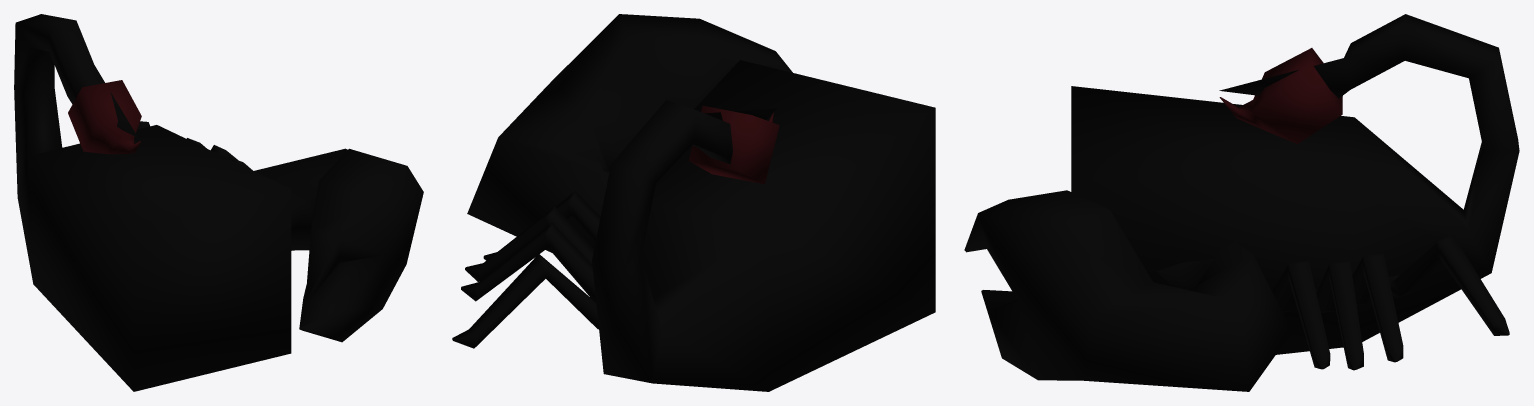
File: scorpionModel.gltf
3 renders of one model, left to right at view 1: azimuth 30°, elevation 25°; view 2: azimuth 150°, elevation 25°; view 3: azimuth 270°, elevation 25°, orthographic. The views are drawn at different scales.
Parts seen in each view (by area): view 1: Cube, Cube.002, Cube.001, Cube.003; view 2: Cube, Cube.002, Cube.003, Cube.001; view 3: Cube, Cube.002, Cube.003, Cube.001.
Part boxes in pixels (left/top/right/bottom): Cube: left=14, top=14, right=291, bottom=391; Cube.002: left=254, top=148, right=423, bottom=342; Cube.001: left=68, top=80, right=141, bottom=154; Cube.003: left=137, top=121, right=252, bottom=170; Cube: left=592, top=60, right=935, bottom=391; Cube.002: left=467, top=14, right=792, bottom=252; Cube.003: left=452, top=191, right=600, bottom=348; Cube.001: left=688, top=105, right=779, bottom=184; Cube: left=1071, top=14, right=1519, bottom=354; Cube.002: left=964, top=190, right=1292, bottom=391; Cube.003: left=1272, top=234, right=1509, bottom=370; Cube.001: left=1219, top=48, right=1342, bottom=143.
Bounding box in the file's own units: 4.91 × 3.89 × 6.44.
